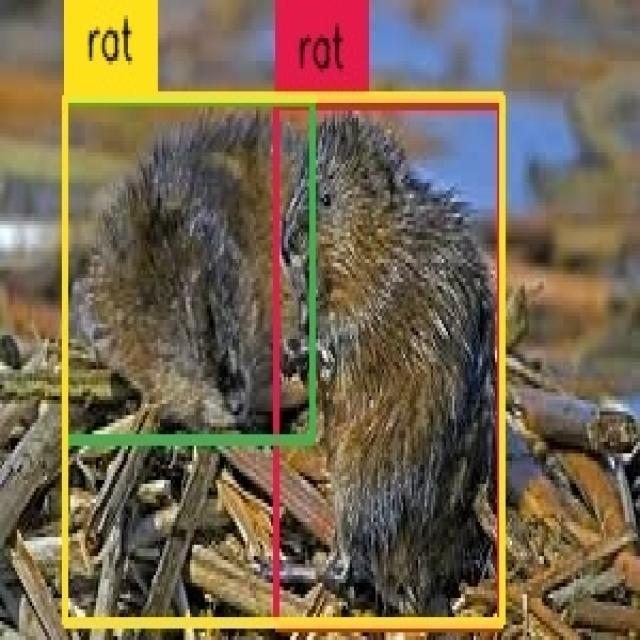rat: (66, 99, 504, 625), (278, 103, 502, 625), (65, 103, 313, 438)
